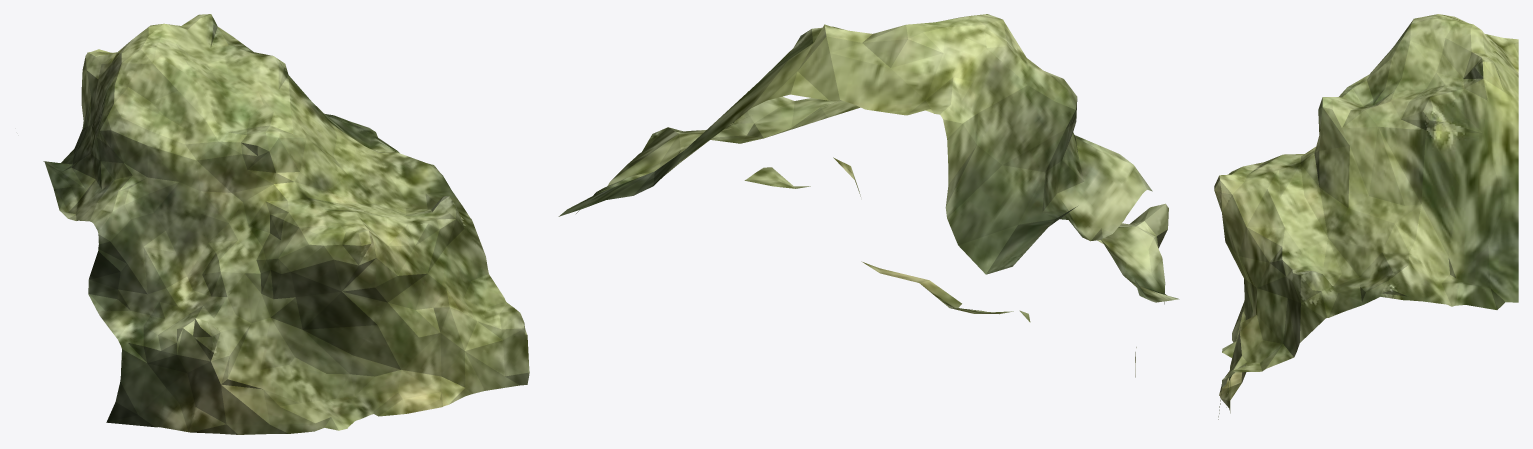
3 views of the same model, side by side, from view 1: azimuth 30°, elevation 25°; view 2: azimuth 150°, elevation 25°; view 3: azimuth 270°, elevation 25° (orthographic). The views are drawn at different scales.
Size of the model in its own units: 2.95 by 2.54 by 2.34.
Materials: 3 (3 with a texture image).
